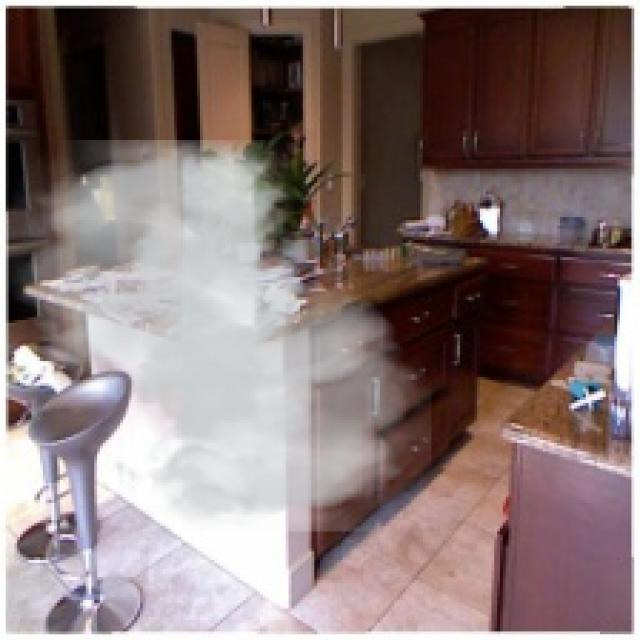smoke: (6, 140, 431, 531)
